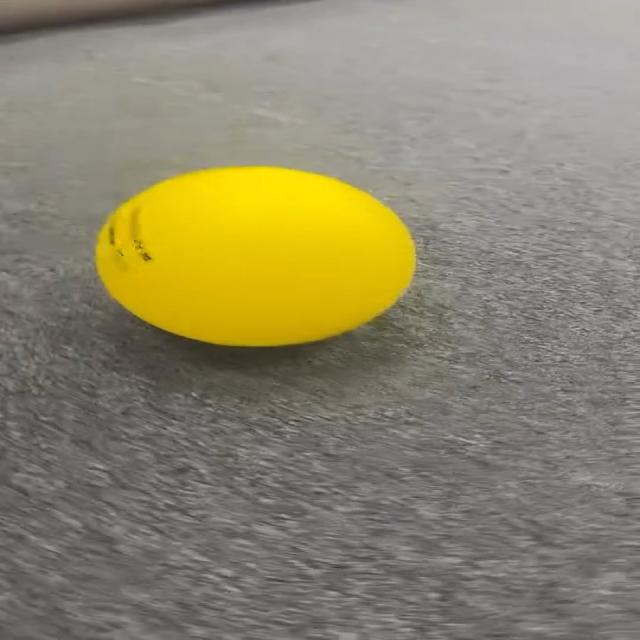Fuels: (95, 167, 412, 344)
